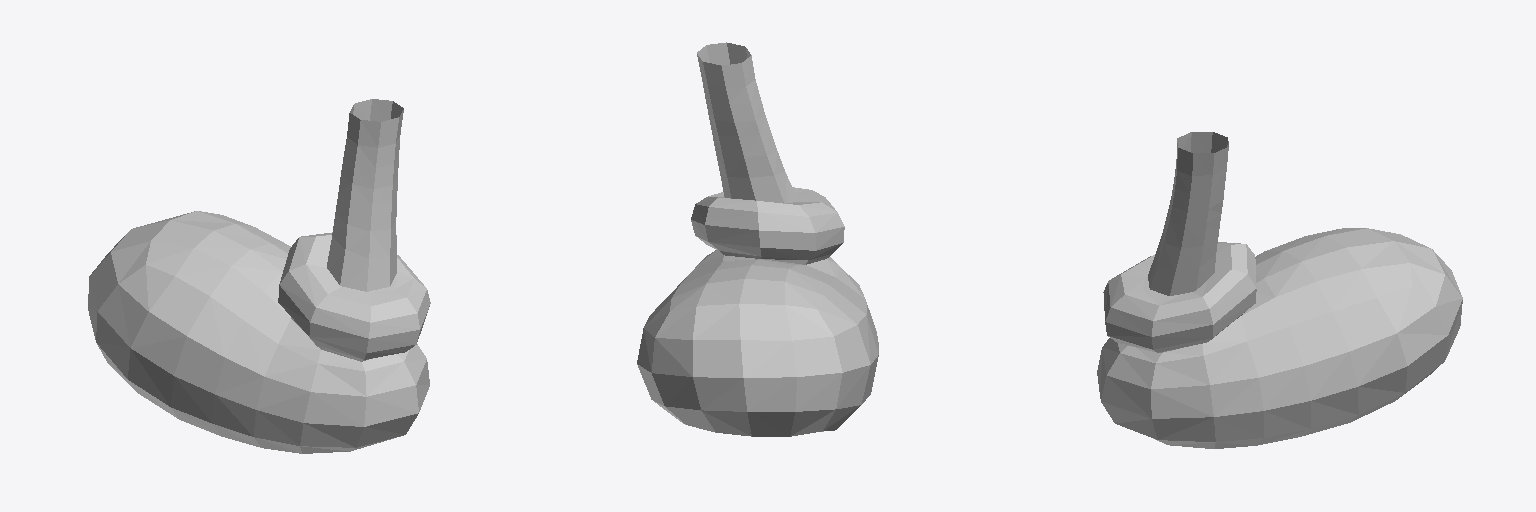
Rendered from MickeyPI.obj.
3 renders of one model, left to right at view 1: azimuth 30°, elevation 25°; view 2: azimuth 150°, elevation 25°; view 3: azimuth 270°, elevation 25°, orthographic.
Parts seen in each view (by area): view 1: PiernaI_default; view 2: PiernaI_default; view 3: PiernaI_default.
Part boxes in pixels (left/top/right/bottom): PiernaI_default: left=88, top=99, right=430, bottom=453; PiernaI_default: left=637, top=42, right=878, bottom=436; PiernaI_default: left=1097, top=132, right=1462, bottom=448.
Size of the model in its own units: 35.21 by 44.35 by 47.85.